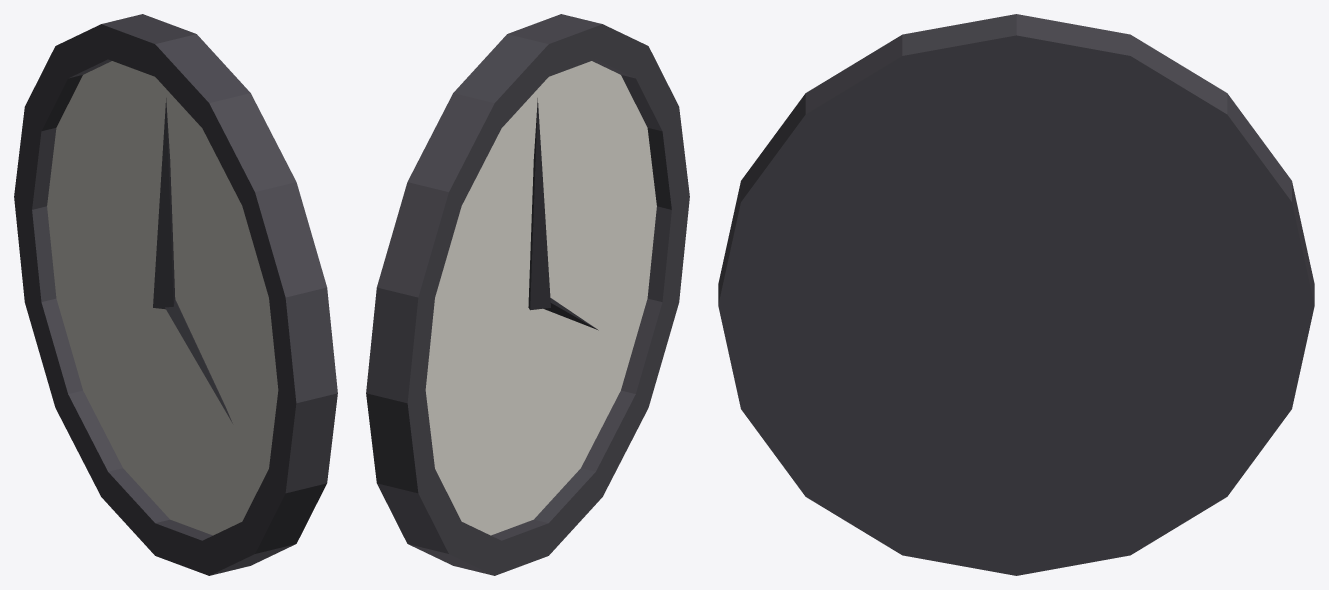
Rendered from Clock.fbx.
3 views of the same model, side by side, from view 1: azimuth 30°, elevation 25°; view 2: azimuth 150°, elevation 25°; view 3: azimuth 270°, elevation 25° (orthographic). The views are drawn at different scales.
Parts seen in each view (by area): view 1: Cylinder, Cone, Cone.001; view 2: Cylinder, Cone; view 3: Cylinder.
Part boxes in pixels (<box>): Cylinder: <box>14,14,337,575</box>; Cone: <box>153,98,175,309</box>; Cone.001: <box>165,299,232,423</box>; Cylinder: <box>366,14,689,575</box>; Cone: <box>528,98,550,310</box>; Cylinder: <box>718,14,1314,575</box>.
Size of the model in its own units: 4.53 by 50.5 by 50.5.
